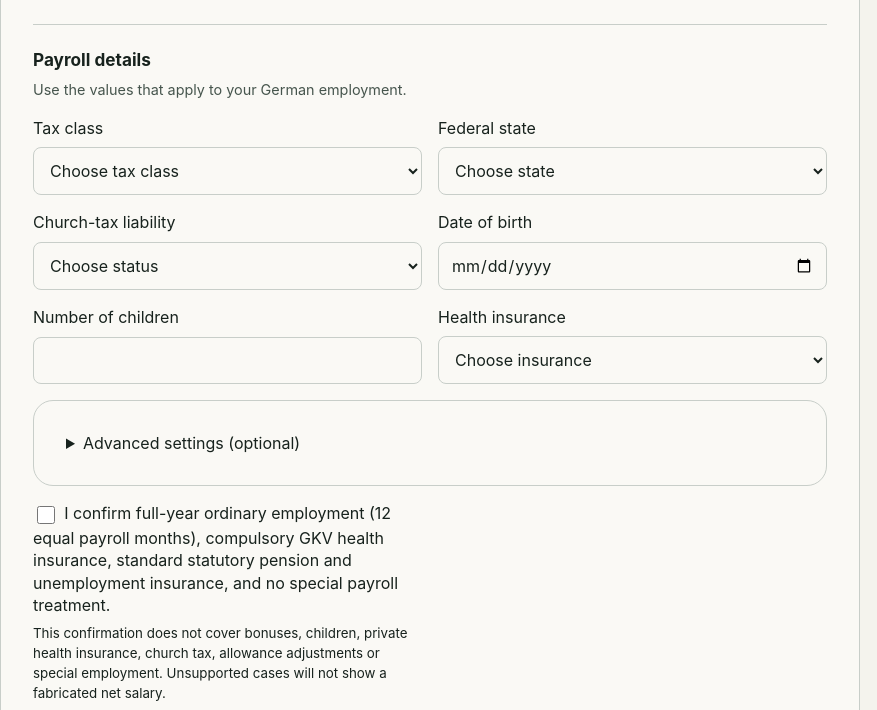
it: payroll scope before form completion › keeps unknown insurance distinct from a known unsupported selection
(page scrolled)
Select "I don't know" in the dropdown labelled "Health insurance" at [632, 360], box [438,336,827,384]
(page scrolled)
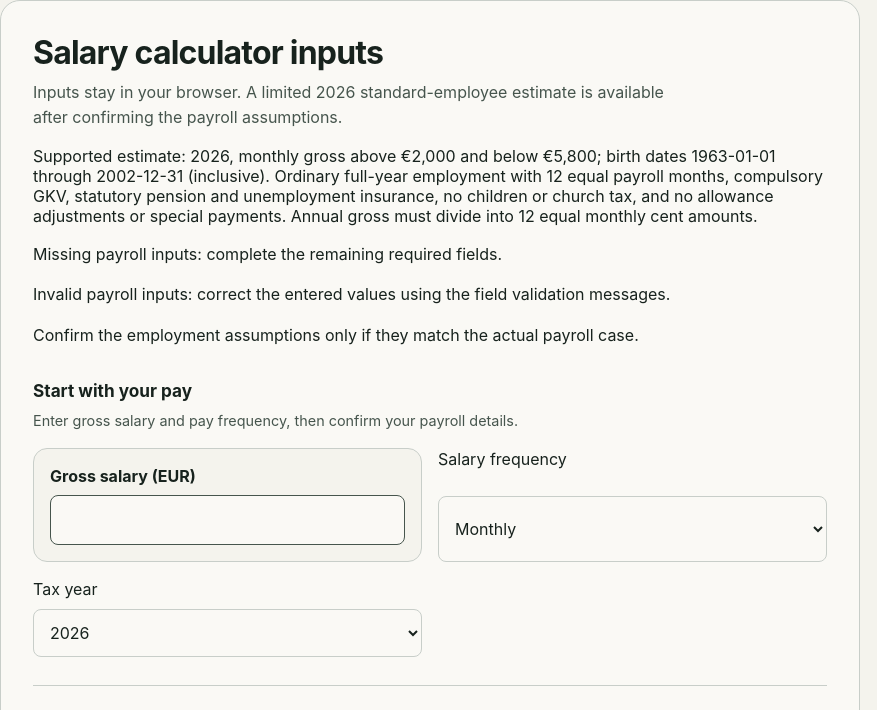
Expected: the message named "Salary payroll scope" does not show "Private health insurance is outside", [33,244,670,345]
Expected: the message named "Salary payroll scope" shows "Invalid payroll inputs", [33,284,670,304]
